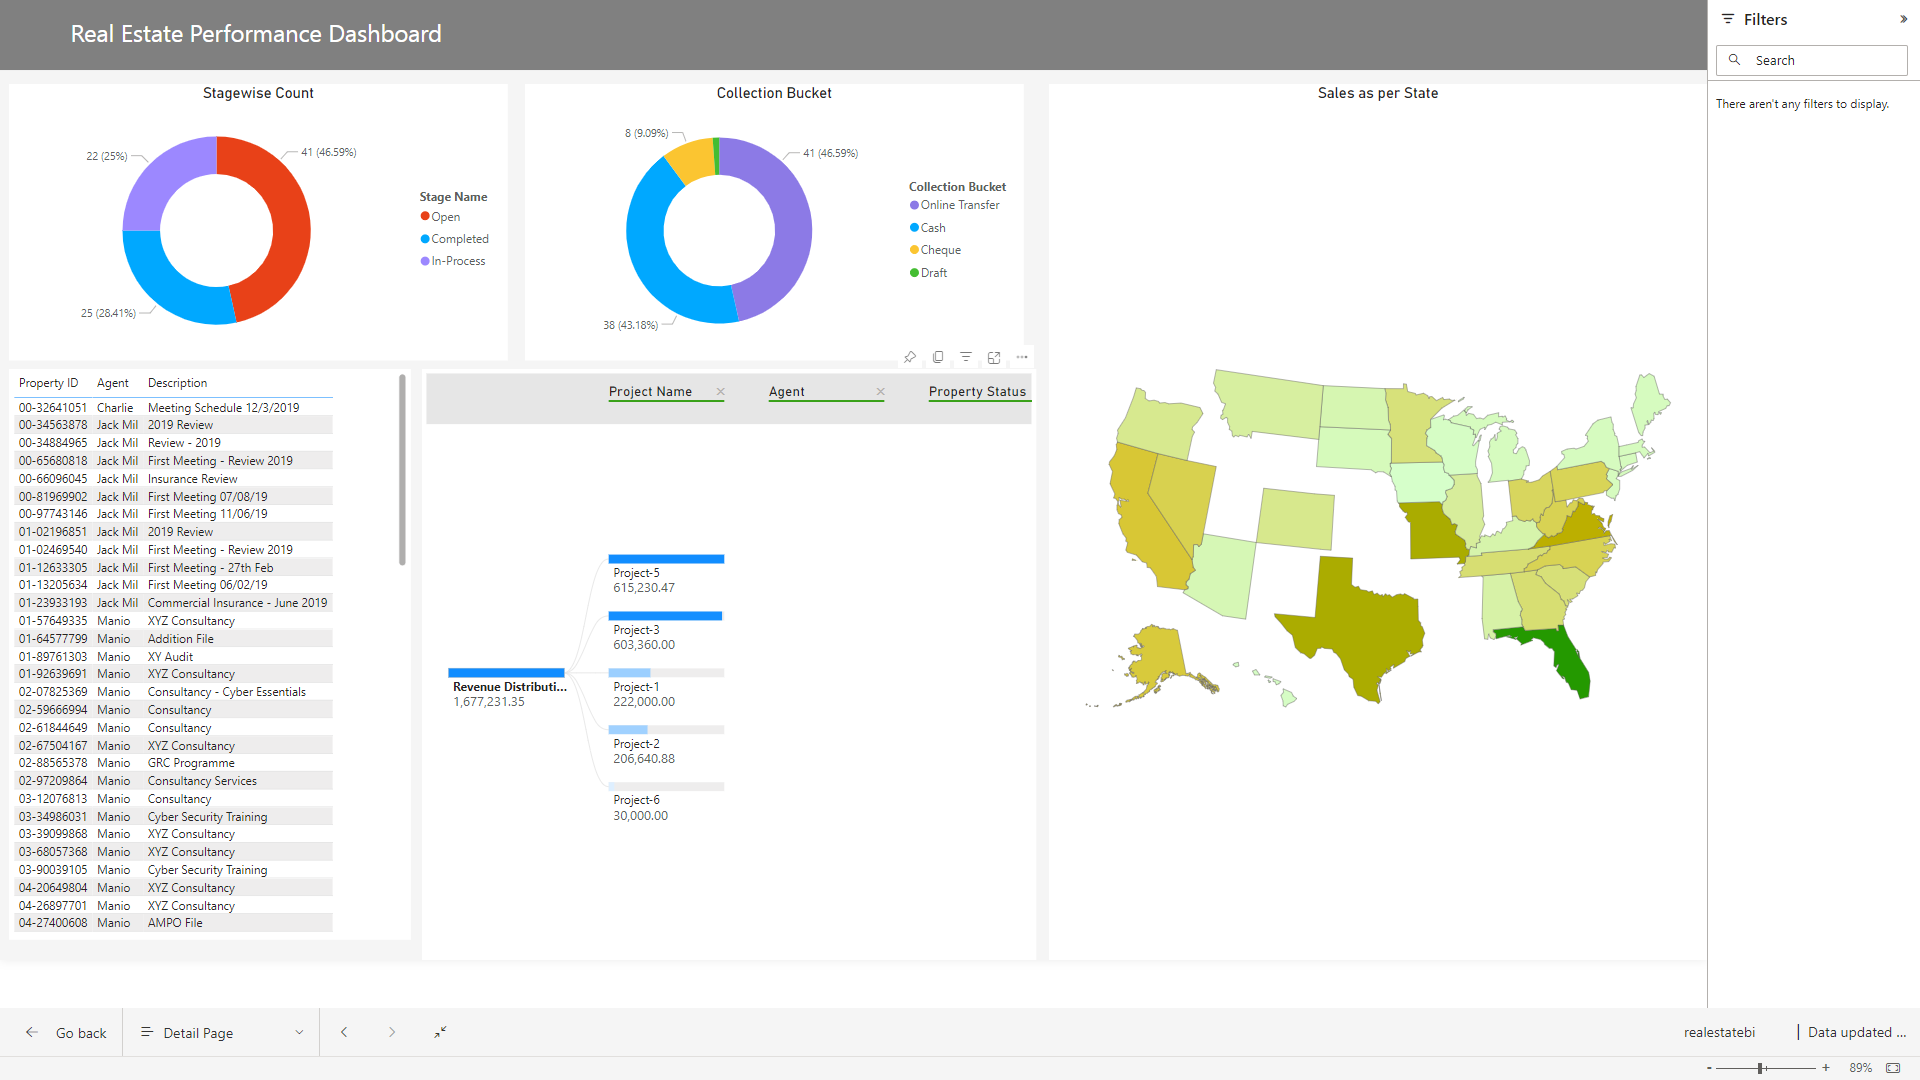

The page's visual inventory and layout, read from the dashboard file:
{"tool":"powerbi","page":{"name":"Detail Page","canvas":[1920,1080],"ordinal":1},"visuals":[{"type":"shape","box":[0,0,1920,78.8],"z":0},{"type":"textbox","box":[74.4,13.1,739.7,51.1],"z":1000},{"type":"shapeMap","title":"Sales as per State","fields":{"Category":["Real Estate Data.State"],"Value":["Sum(Real Estate Data.Sales)"]},"box":[1179.4,94.2,740.6,986.5],"z":1001},{"type":"donutChart","title":"Stagewise Count","fields":{"Category":["Real Estate Data.Stage Name"],"Y":["CountNonNull(Real Estate Data.Stage Name)"]},"box":[10.3,94.2,561,310.7],"z":1002},{"type":"donutChart","title":"Collection Bucket","fields":{"Category":["Real Estate Data.Collection Bucket"],"Y":["CountNonNull(Real Estate Data.Collection Bucket)"]},"box":[590.4,94.2,561,310.7],"z":1003},{"type":"tableEx","fields":{"Values":["Real Estate Data.Property ID","Real Estate Data.Agent","Real Estate Data.Description"]},"box":[10.3,415.2,452,642],"z":1004},{"type":"decompositionTreeVisual","fields":{"Analyze":["Sum(Real Estate Data.Revenue)"],"ExplainBy":["Real Estate Data.Project Name","Real Estate Data.Agent","Real Estate Data.Property Status"]},"box":[474.1,415.2,690.6,665.5],"z":1005}]}

Visuals, with their boxes on the page's 1920x1080 design canvas (x1, y1, x2, y2). These are canvas units, not pixel positions in the 1920x1080 screenshot, which may show the page scaled, cropped or inside an application window:
shape: 0 0 1920 79
textbox: 74 13 814 64
"Sales as per State" shapeMap: 1179 94 1920 1081
"Stagewise Count" donutChart: 10 94 571 405
"Collection Bucket" donutChart: 590 94 1151 405
tableEx - Real Estate Data.Property ID x Real Estate Data.Agent: 10 415 462 1057
decompositionTreeVisual - Sum(Real Estate Data.Revenue) x Real Estate Data.Project Name: 474 415 1165 1081
